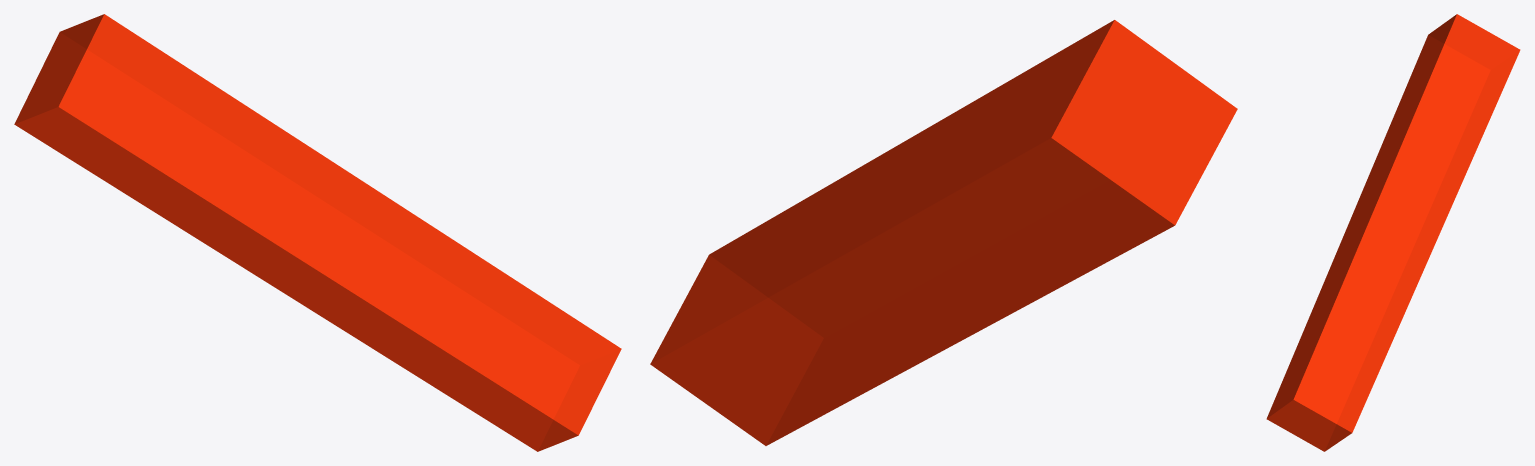
The model's file is Event_421556567_EBrechit_1.fbx.
The picture shows the model from 3 angles, left to right: view 1: azimuth 30°, elevation 25°; view 2: azimuth 150°, elevation 25°; view 3: azimuth 270°, elevation 25°; orthographic projection. The views are drawn at different scales.
Parts seen in each view (by area): view 1: Model; view 2: Model; view 3: Model.
Part boxes in pixels (x1=…): Model: x1=14, y1=14, x2=621, y2=451; Model: x1=650, y1=20, x2=1237, y2=445; Model: x1=1266, y1=14, x2=1520, y2=451.
Bounding box in the file's own units: 0.3094 × 0.2857 × 0.2052.
